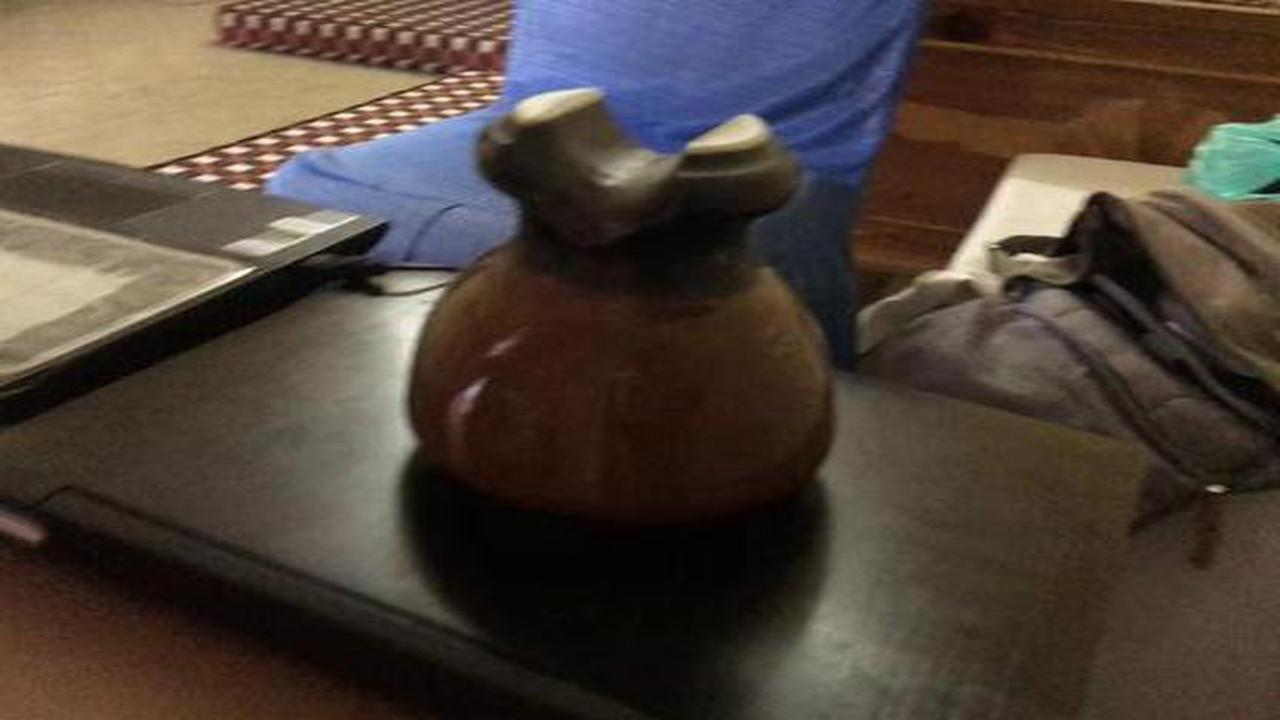insulator_pin: (385, 61, 865, 556)
